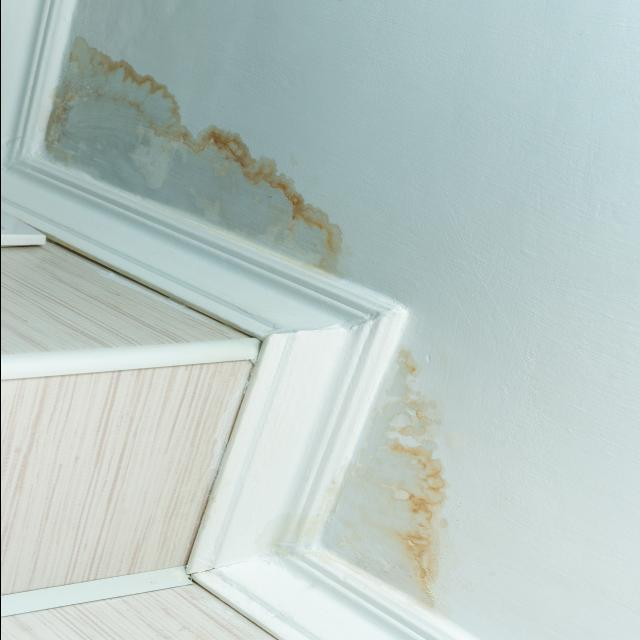leak: (56, 76, 352, 274), (329, 392, 462, 593)
